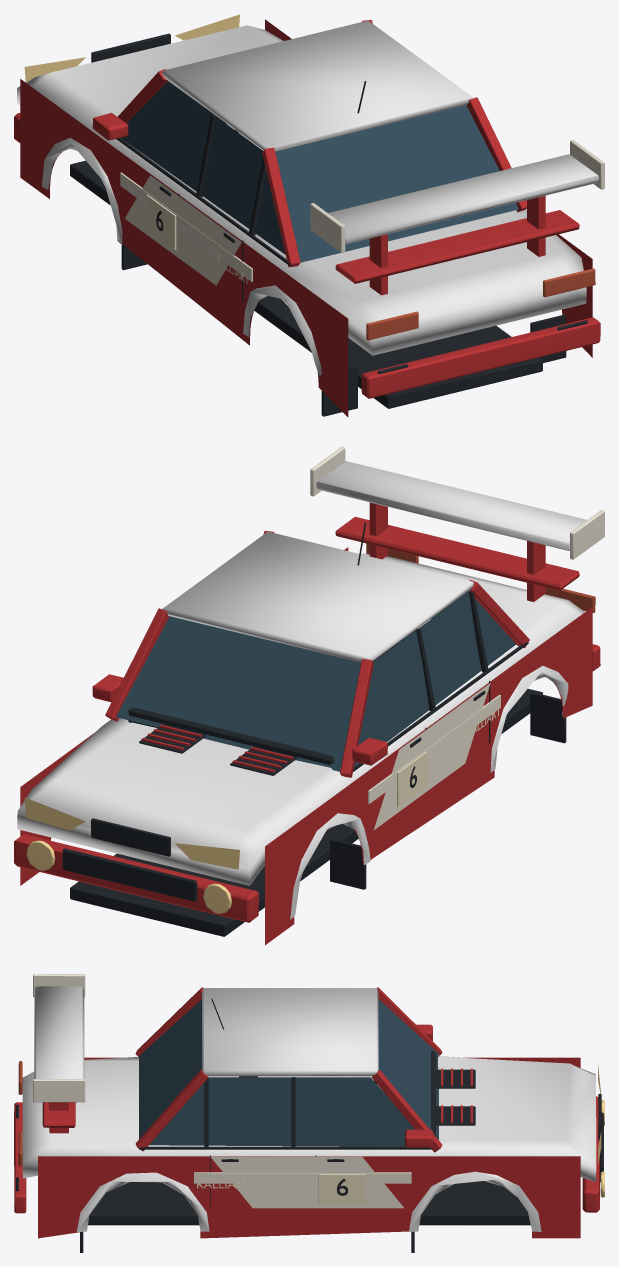
The model's file is EVO6-lod2.glb.
The picture shows the model from 3 angles, top to bottom: view 1: azimuth 30°, elevation 25°; view 2: azimuth 150°, elevation 25°; view 3: azimuth 270°, elevation 25°; orthographic projection. The views are drawn at different scales.
Parts seen in each view (by area): view 1: Outline_Body, paint, glass, ink, accent, BrakeLamp, ivory, lamp; view 2: Outline_Body, paint, glass, ink, accent, lamp, ivory, BrakeLamp; view 3: Outline_Body, paint, glass, ink, accent, ivory.
Boxes of the visible parts, x1,y1,x2,y2 form: Outline_Body: (17, 20, 599, 376); paint: (14, 19, 600, 417); glass: (121, 81, 518, 262); ink: (70, 33, 587, 416); accent: (120, 139, 604, 285); BrakeLamp: (366, 268, 595, 340); ivory: (146, 194, 248, 284); lamp: (24, 14, 239, 82); Outline_Body: (17, 461, 586, 919); paint: (14, 502, 600, 945); glass: (116, 592, 515, 771); ink: (62, 522, 566, 936); accent: (310, 446, 604, 829); lamp: (24, 797, 239, 913); ivory: (397, 705, 500, 807); BrakeLamp: (366, 543, 595, 612); Outline_Body: (22, 986, 596, 1231); paint: (14, 987, 599, 1238); glass: (139, 999, 438, 1146); ink: (16, 998, 603, 1252); accent: (33, 974, 411, 1208); ivory: (197, 1174, 366, 1203).
Size of the model in its own units: 2.03 by 1.72 by 4.48.
